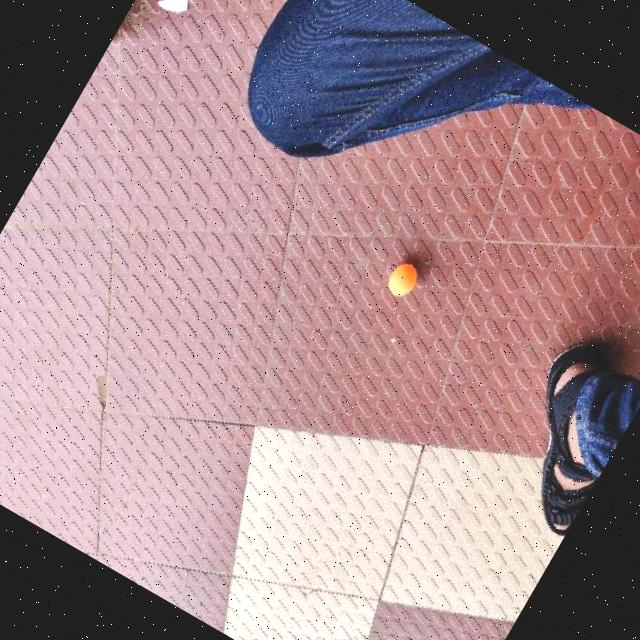ping-pong-ball: (384, 256, 424, 302)
